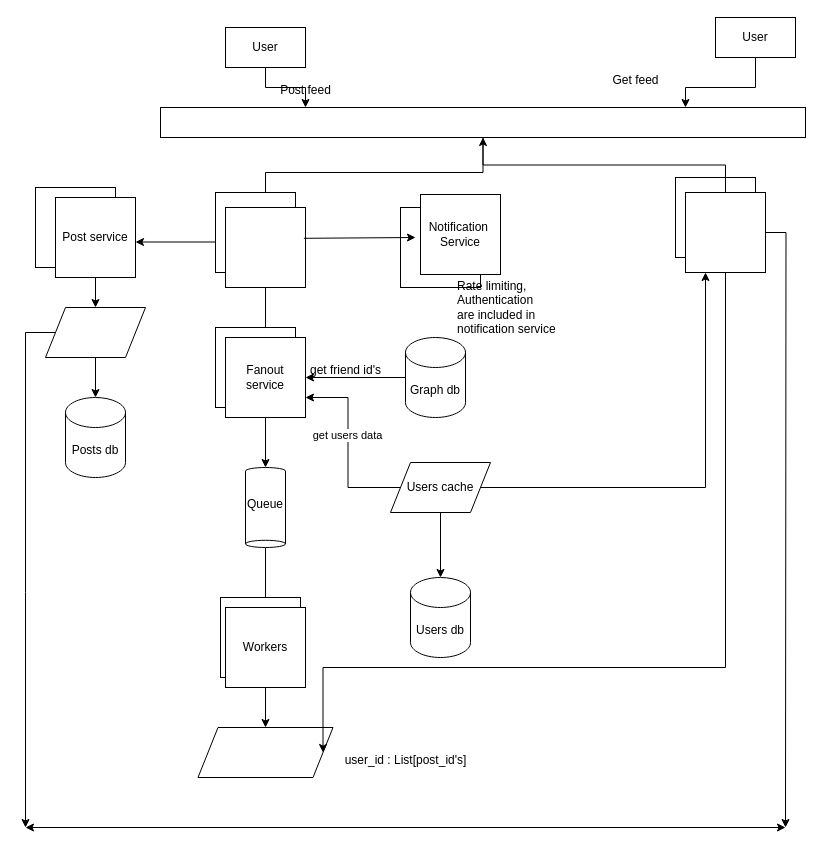
This 823x854 diagram has some shape labels left out. Each missing label, with the centre of its shape:
"Feed service" belongs at (x=725, y=232).
"Load balancer" belongs at (x=483, y=122).
"News Feed cache" belongs at (x=265, y=752).
"Post cache" belongs at (x=95, y=332).
"Web servers" belongs at (x=265, y=247).
